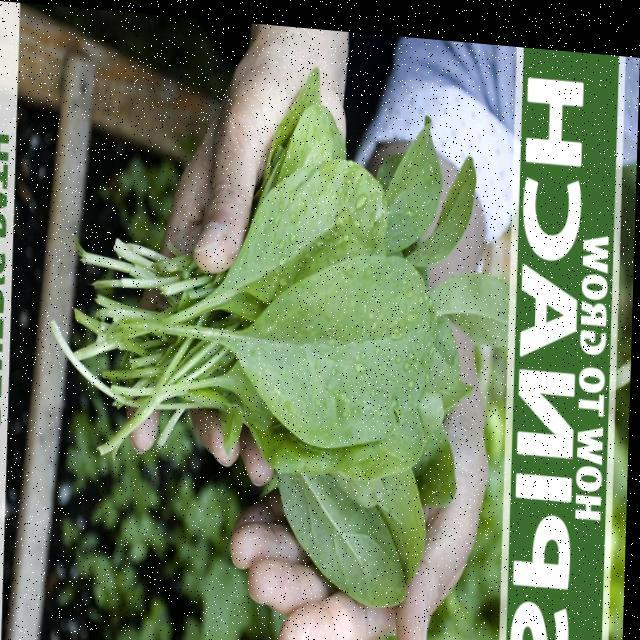Spinach: (50, 29, 516, 627)
